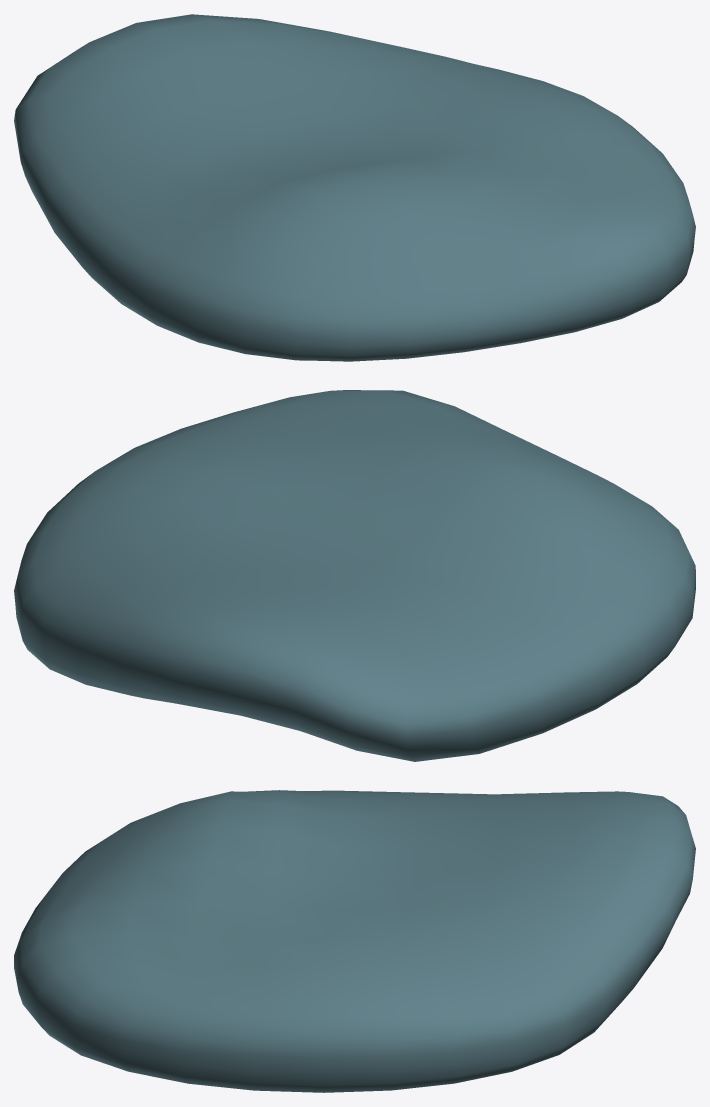
Rendered from Rock_B_04.fbx.
3 views of the same model, one above another, from view 1: azimuth 30°, elevation 25°; view 2: azimuth 150°, elevation 25°; view 3: azimuth 270°, elevation 25° (orthographic). The views are drawn at different scales.
Visible parts, largest first — view 1: Rock_B_04_LOD0; view 2: Rock_B_04_LOD0; view 3: Rock_B_04_LOD0.
Part boxes in pixels (<box>): Rock_B_04_LOD0: <box>14,14,695,361</box>; Rock_B_04_LOD0: <box>14,390,695,761</box>; Rock_B_04_LOD0: <box>14,790,695,1092</box>.
Size of what is drawn, in the model's own units: 534 by 130 by 598.
